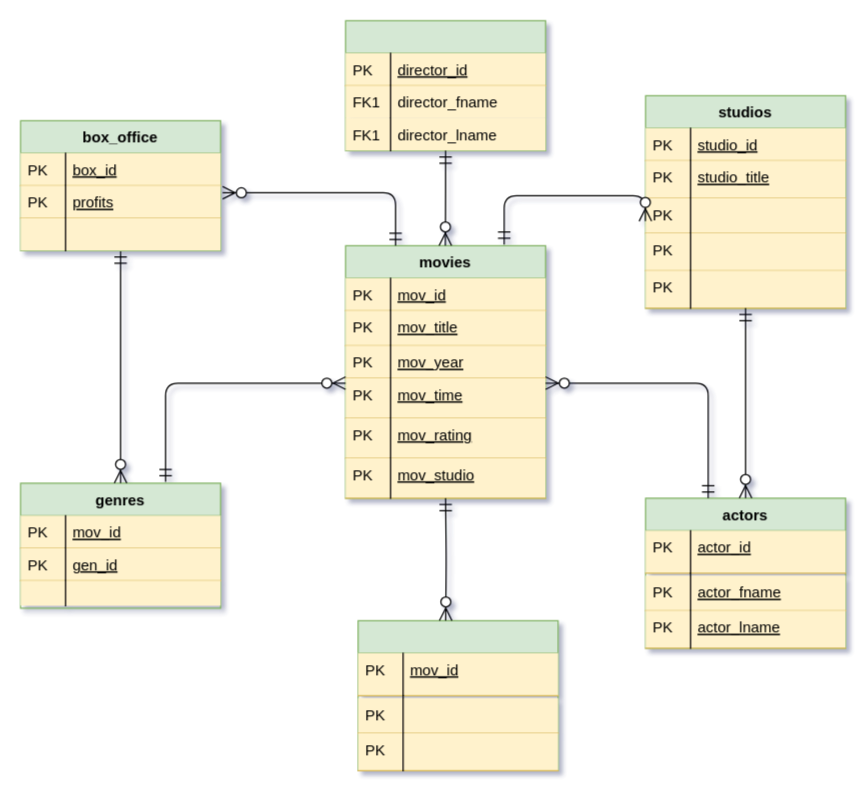
Image size: 866x791. Some labels were removed from this diagram. Here are the shapes that lost their labels. From the top down, the box of each, then its label:
(344, 19, 546, 151): directors
(357, 619, 558, 771): ratings
